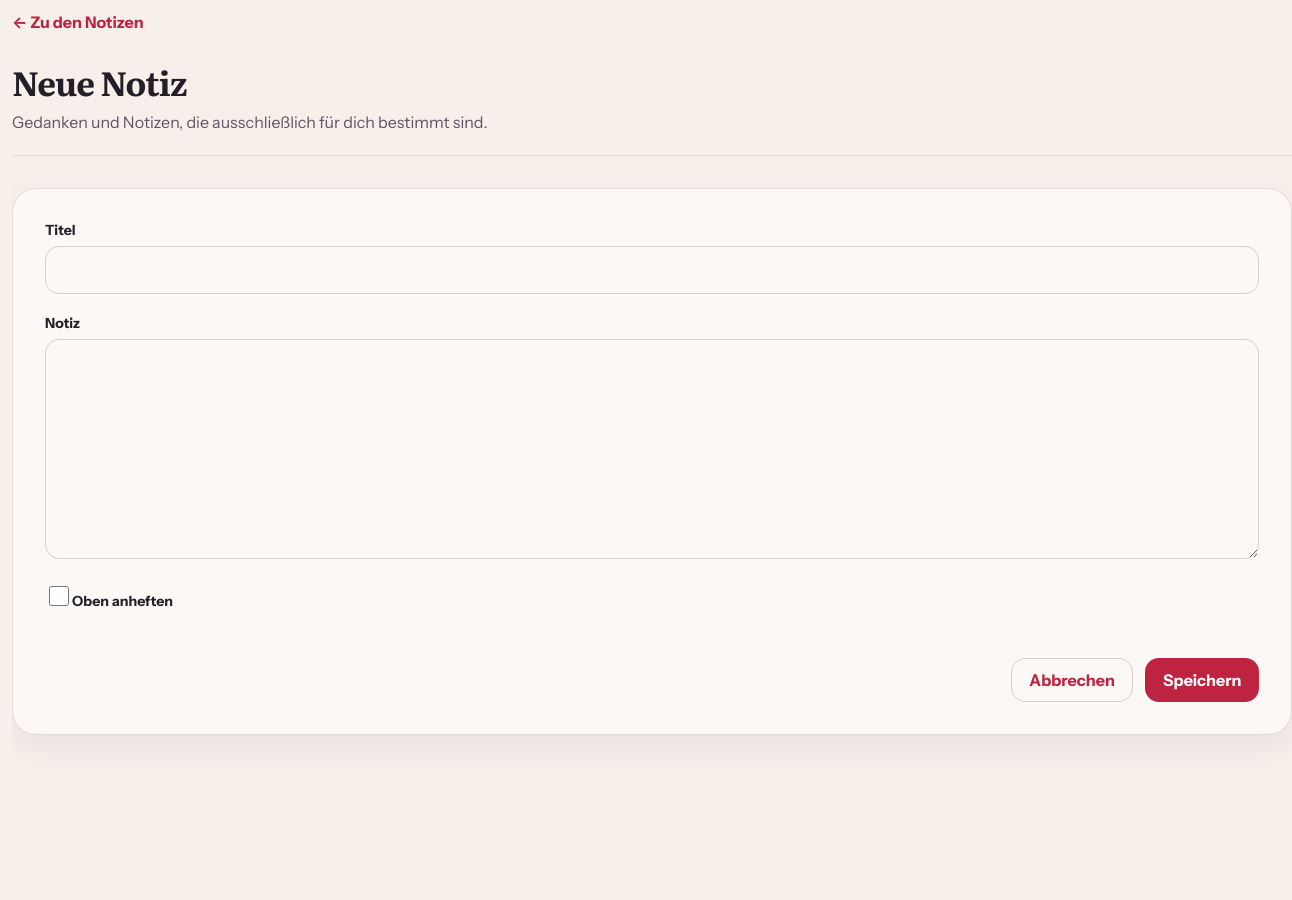
private create title validation › maps the known note server title error back to its field
In the field labelled "Titel": [652, 270] box [45, 246, 1259, 294], type "Draft title"
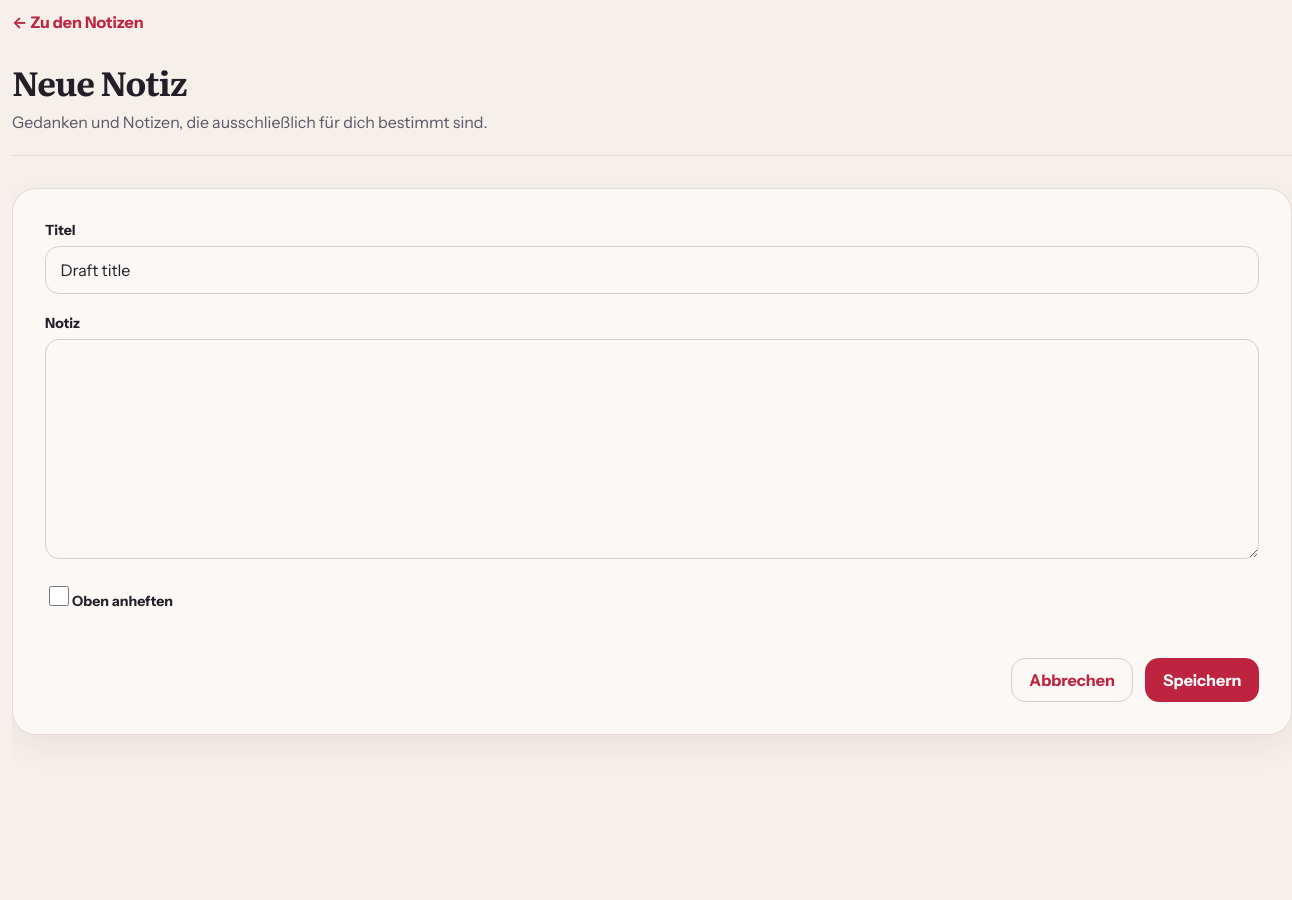
Submit the form, box [45, 221, 1259, 702]
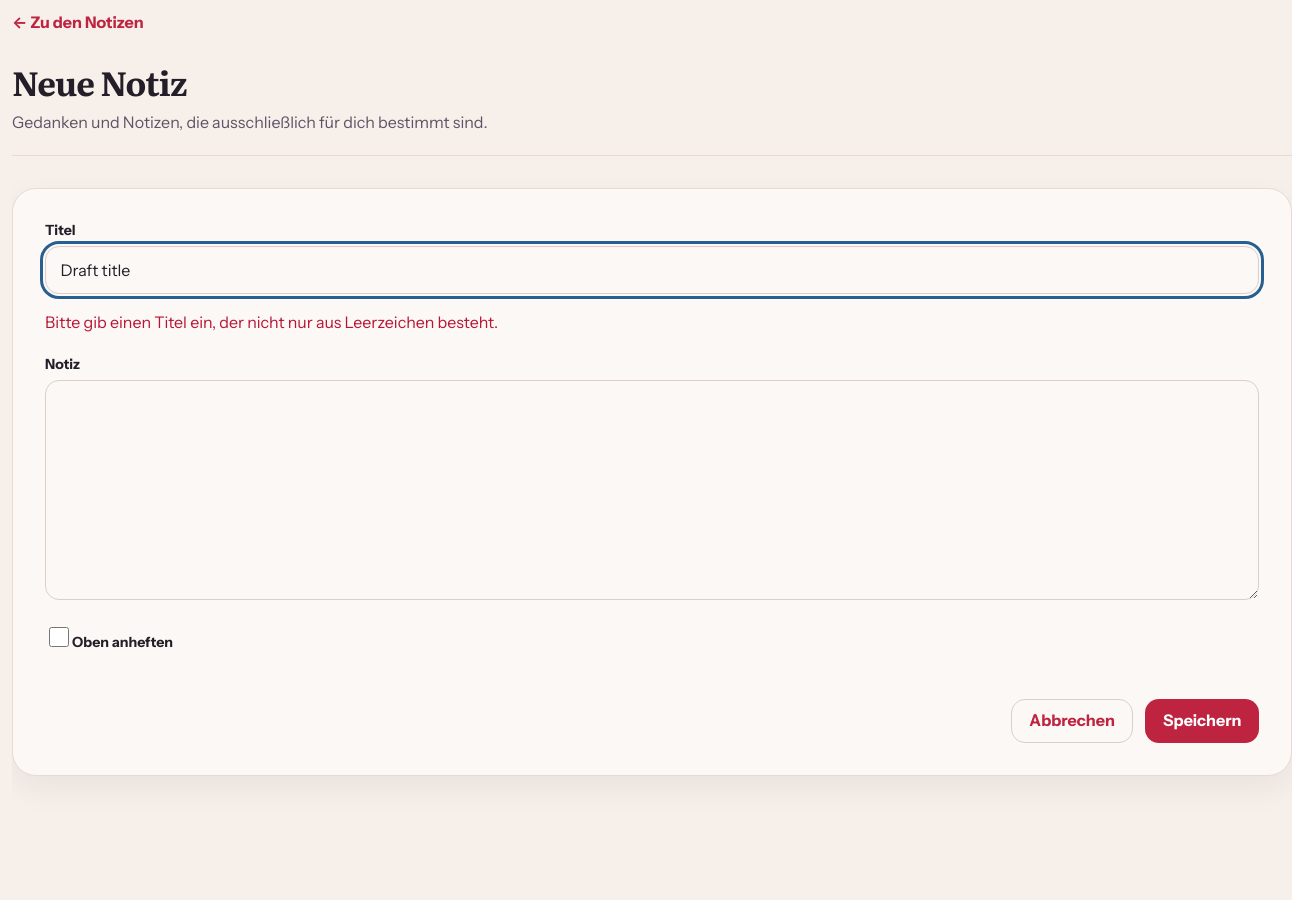
expect the text "Bitte gib einen Titel ein, der nicht nur aus Leerzeichen besteht." is shown: met, box [45, 312, 498, 332]
